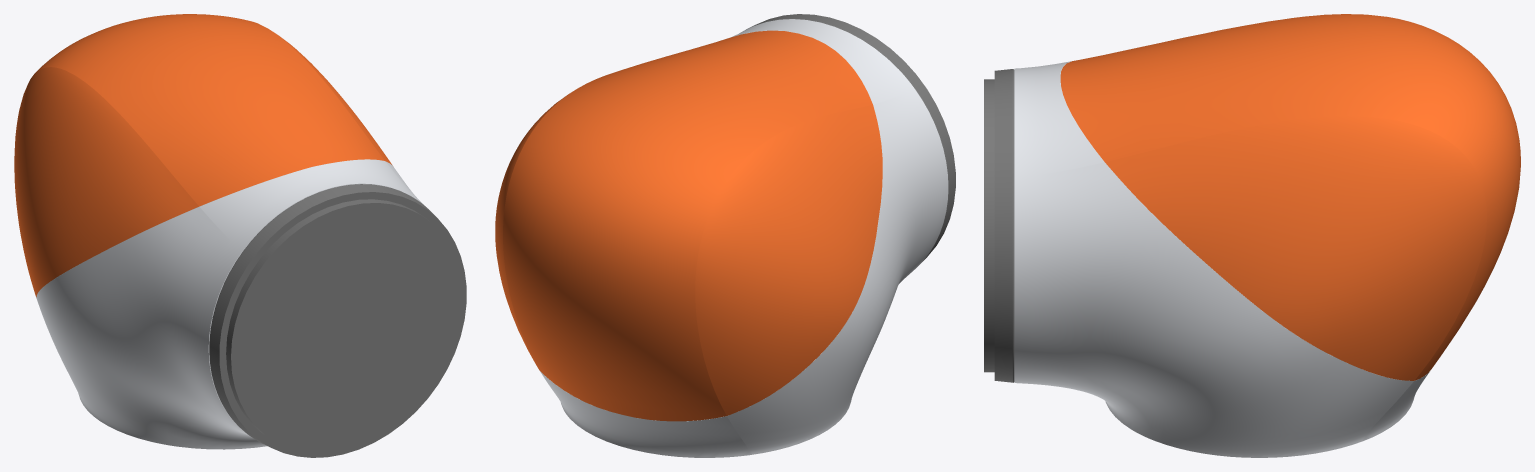
3 views of the same model, side by side, from view 1: azimuth 30°, elevation 25°; view 2: azimuth 150°, elevation 25°; view 3: azimuth 270°, elevation 25° (orthographic). The views are drawn at different scales.
Visible parts, largest first — view 1: link_6; view 2: link_6; view 3: link_6.
Part boxes in pixels (box(x1,y1,x2,y2)): link_6: box(14, 14, 466, 457); link_6: box(495, 14, 955, 457); link_6: box(984, 14, 1520, 457).
Size of the model in its own units: 0.1323 by 0.1376 by 0.1775.
